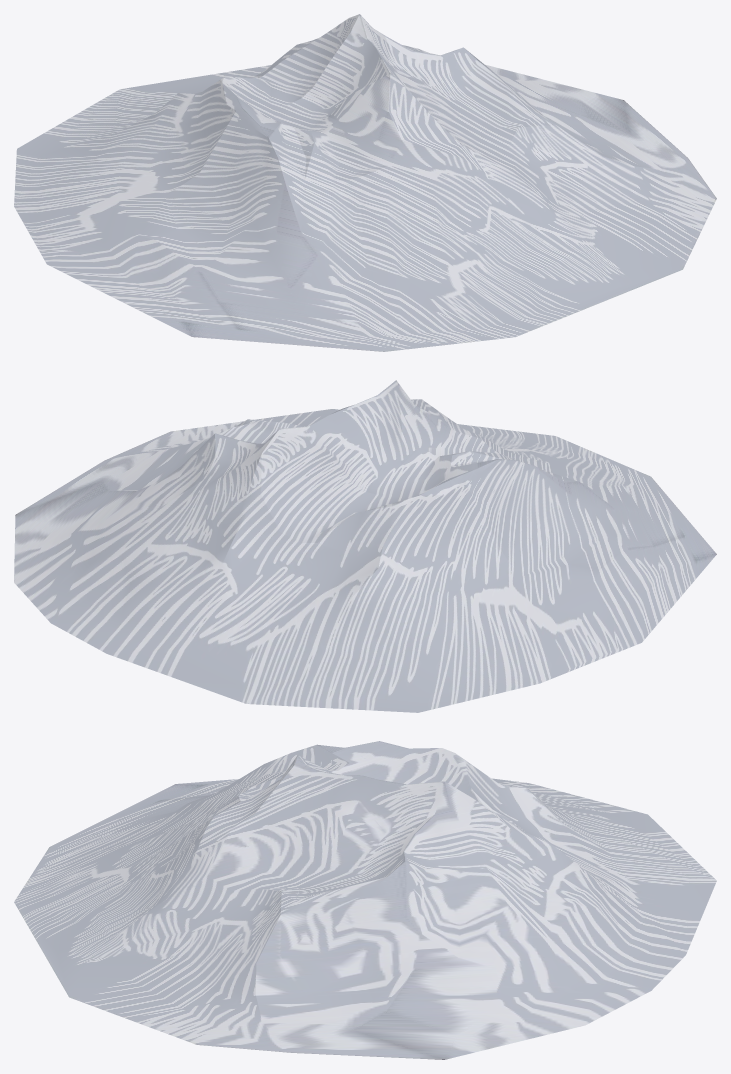
Rendered from mountainL_2024.glb.
The picture shows the model from 3 angles, top to bottom: view 1: azimuth 30°, elevation 25°; view 2: azimuth 150°, elevation 25°; view 3: azimuth 270°, elevation 25°; orthographic projection.
Visible parts, largest first — view 1: mountain.L; view 2: mountain.L; view 3: mountain.L.
Part boxes in pixels (x1,y1,x2,y2): mountain.L: [14, 14, 716, 351]; mountain.L: [14, 380, 716, 712]; mountain.L: [14, 741, 716, 1059].
Size of the model in its own units: 136 by 33.7 by 138.
1 material, 1 textured.
